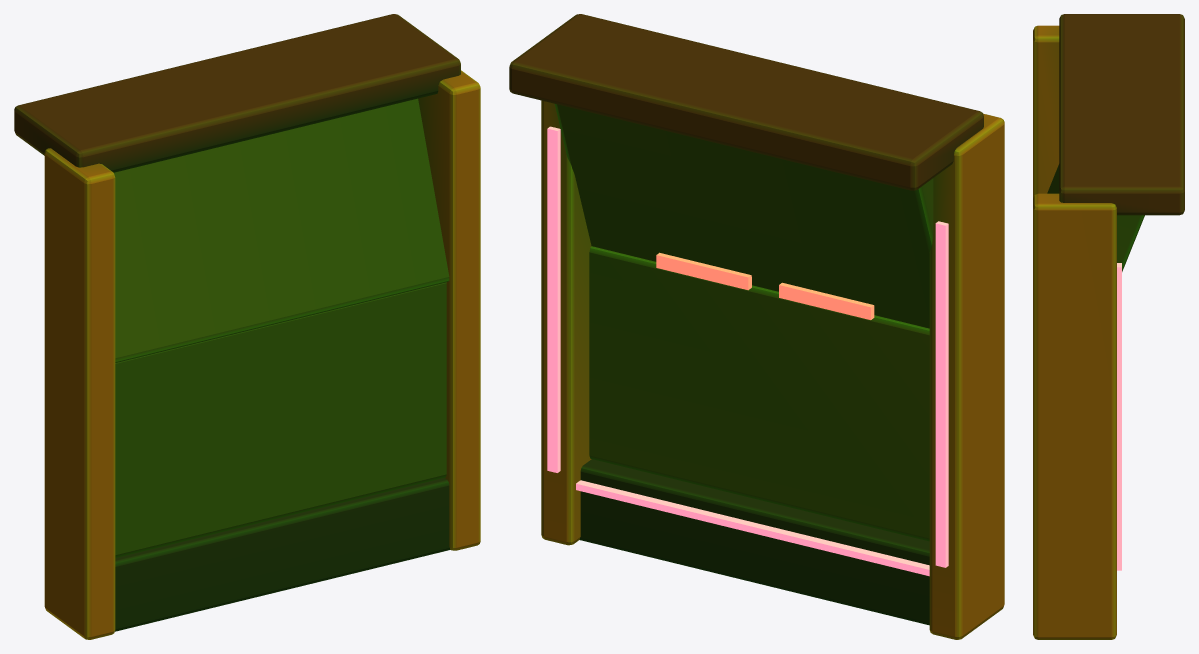
Rendered from wall_curved.glb.
3 renders of one model, left to right at view 1: azimuth 30°, elevation 25°; view 2: azimuth 150°, elevation 25°; view 3: azimuth 270°, elevation 25°, orthographic. The views are drawn at different scales.
Parts seen in each view (by area): view 1: wall_curved; view 2: wall_curved; view 3: wall_curved.
Part boxes in pixels (x1,y1,x2,y2): wall_curved: (14, 14, 480, 639); wall_curved: (509, 14, 1004, 639); wall_curved: (1033, 14, 1184, 639).
Size of the model in its own units: 4.12 by 4.75 by 1.45.
